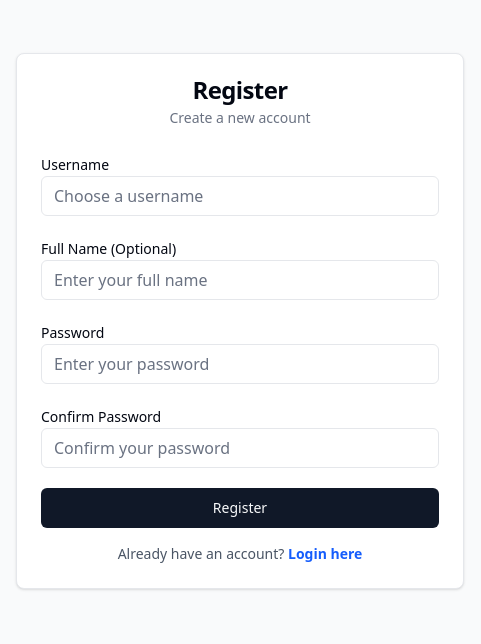
Test: RegisterForm › shows error if fields are empty
Click the button "Register" at (240, 508), box [41,488,439,528]
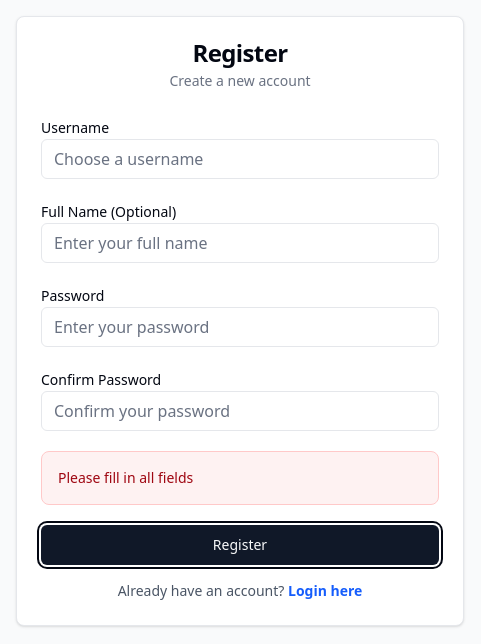
Expected: the text "Please fill in all fields" is shown, [58,468,193,487]
